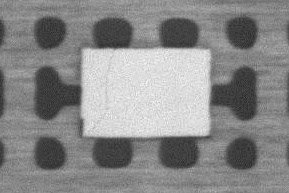DIE_CRACK: (91, 49, 116, 133)
